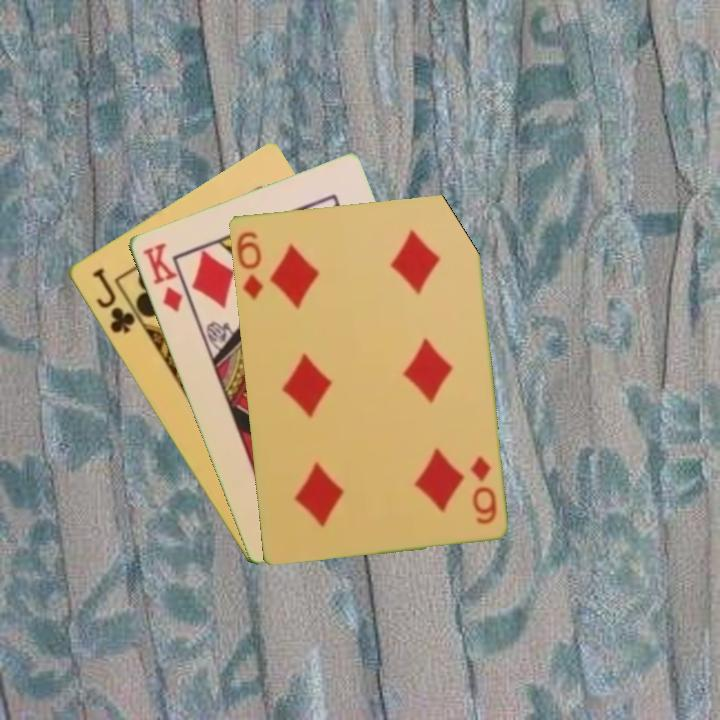6d: (233, 227, 266, 302), (466, 452, 499, 527)
Jc: (88, 264, 138, 337)
Kd: (138, 239, 186, 316)
